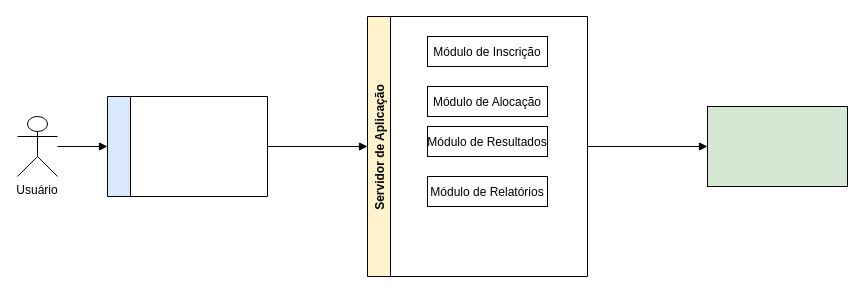
Some shapes in this 864 by 293 pixel diagram are drawn without their labels. Each missing label, with the centre of its shape:
Aplicação Web: the point at 187,146
Banco de Dados (SGBD): the point at 777,146
